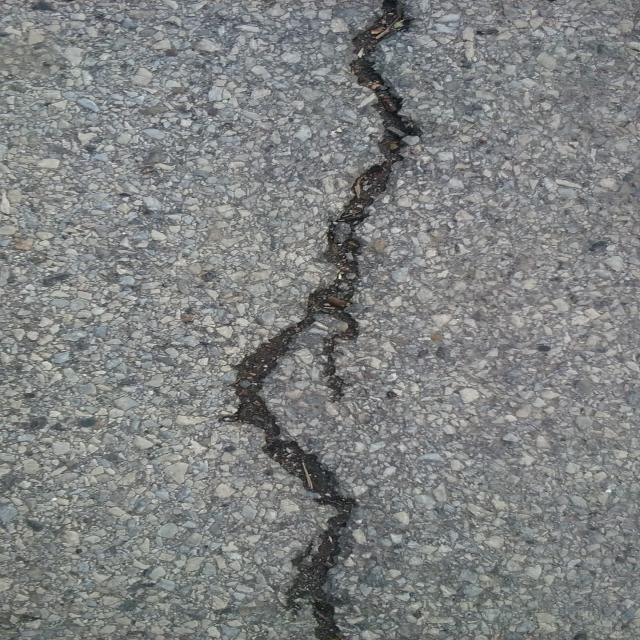Longitudial: (207, 2, 447, 640)
